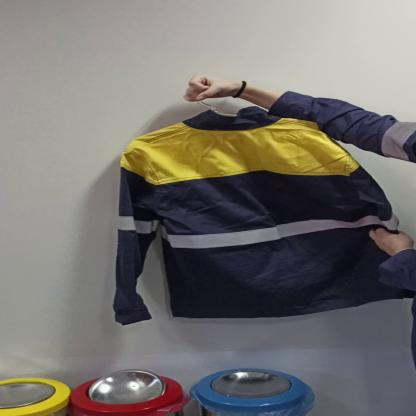C_eletrica: (109, 108, 416, 328)
